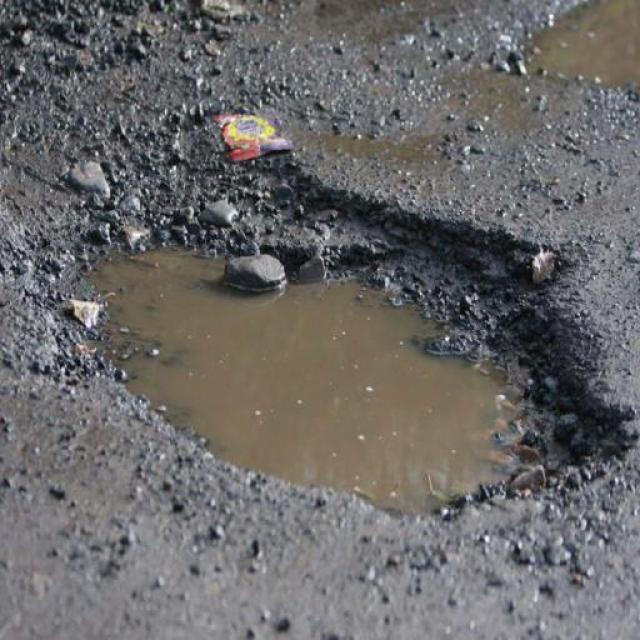puddle: (109, 242, 503, 510)
